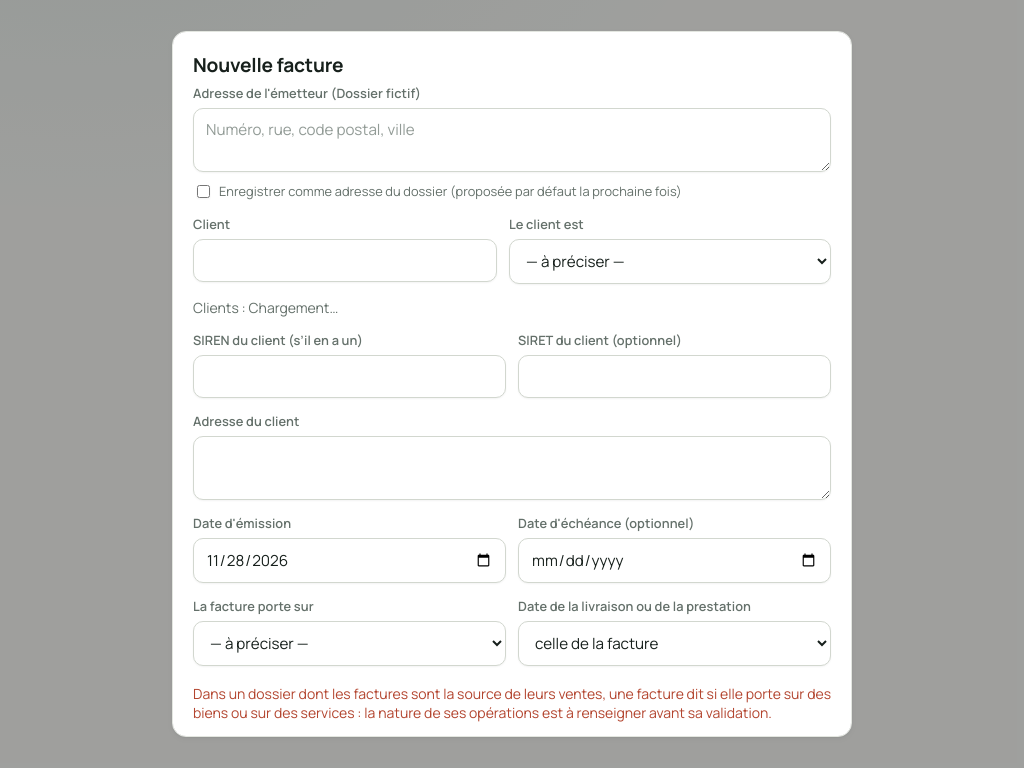
Scenario: FactureFormModal — un dossier basculé, au cabinet › la nature absente : le refus de la base, avant le clic ; la validation grisée, le brouillon offert
Type "Client fictif" into the field with id "tiers-nom".
click(345, 260); type("Client fictif")  # box [193, 239, 497, 282]
(page scrolled)
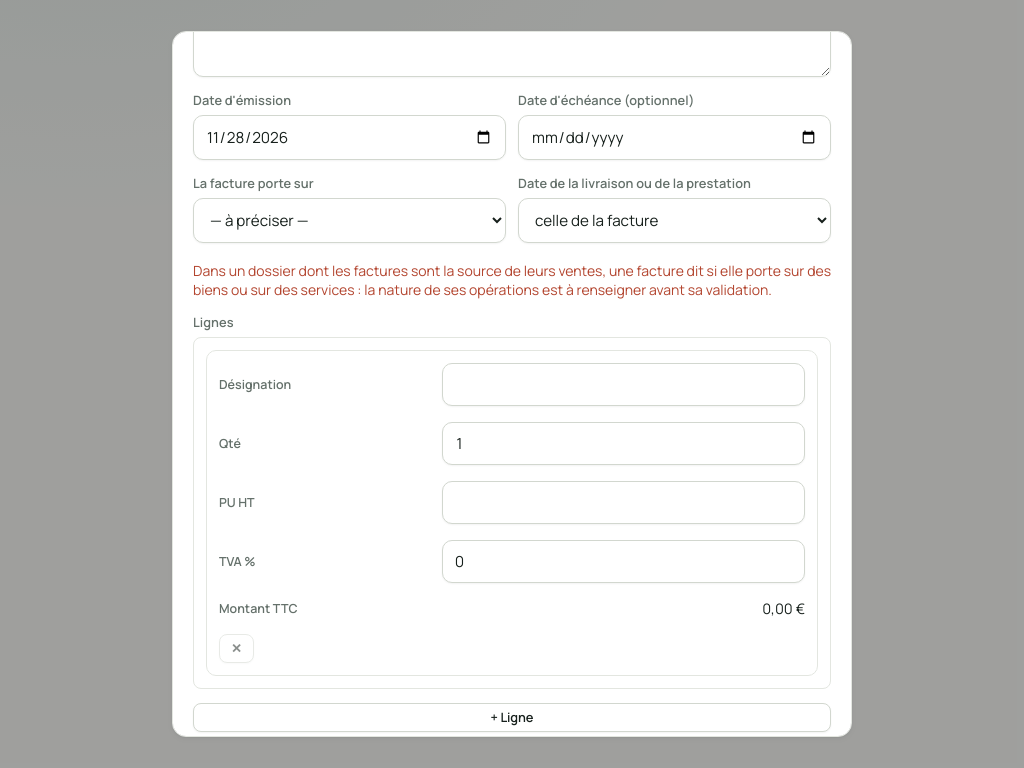
Type "Prestation" into the field.
click(623, 384); type("Prestation")  # box [442, 363, 805, 406]
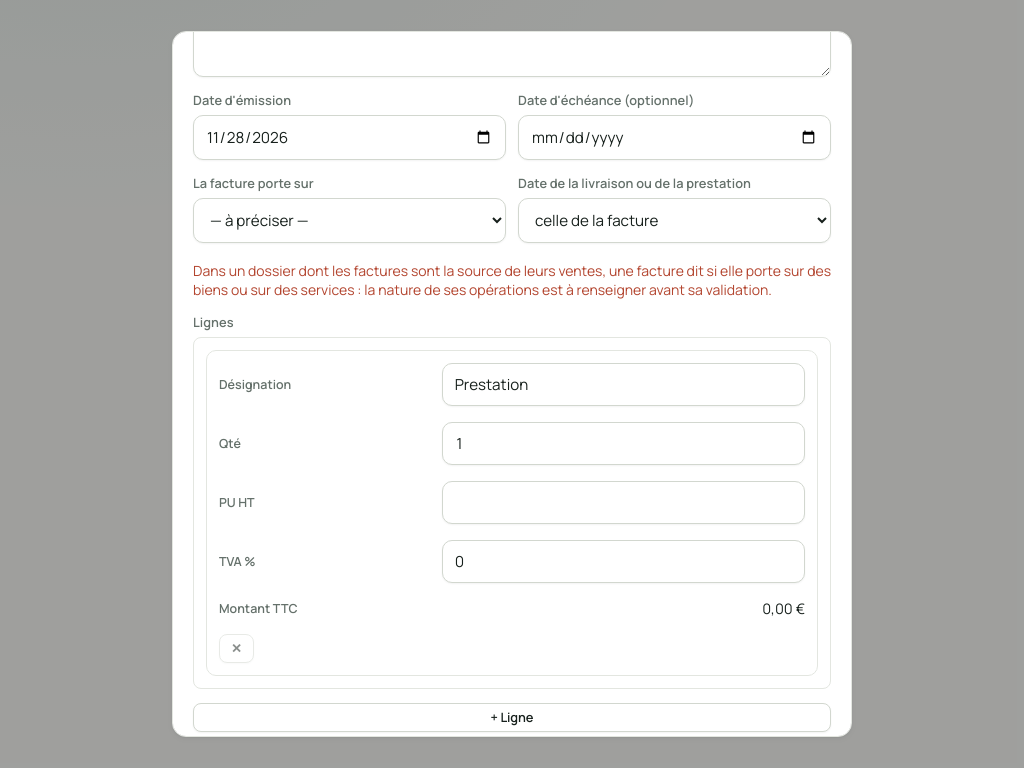
Select "— à préciser —" in the dropdown with id "nature-operation" at (350, 220), box [193, 198, 506, 243]
Type "2026-03-02" into the date field with id "date-emission".
click(350, 137); type("2026-03-02")  # box [193, 115, 506, 160]
(page scrolled)
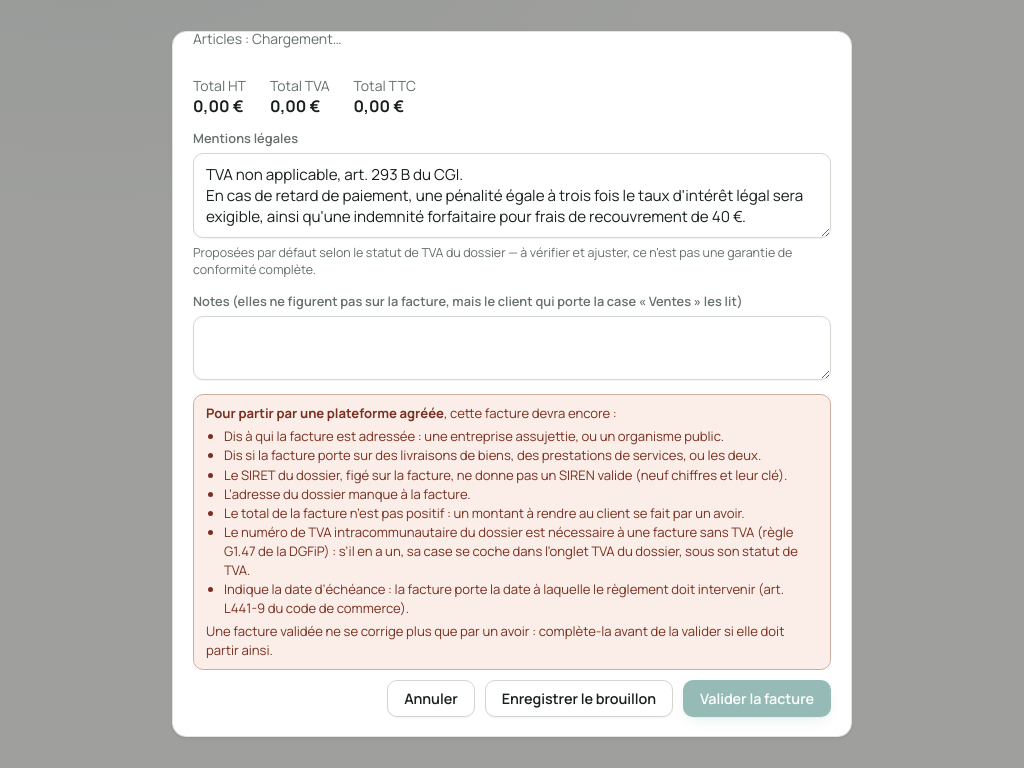
Now the button "Valider la facture" is disabled, box [683, 680, 831, 717]
Now the button "Enregistrer le brouillon" is enabled
Click the button "Enregistrer le brouillon".
click(579, 698)  # box [485, 680, 673, 717]
(page scrolled)
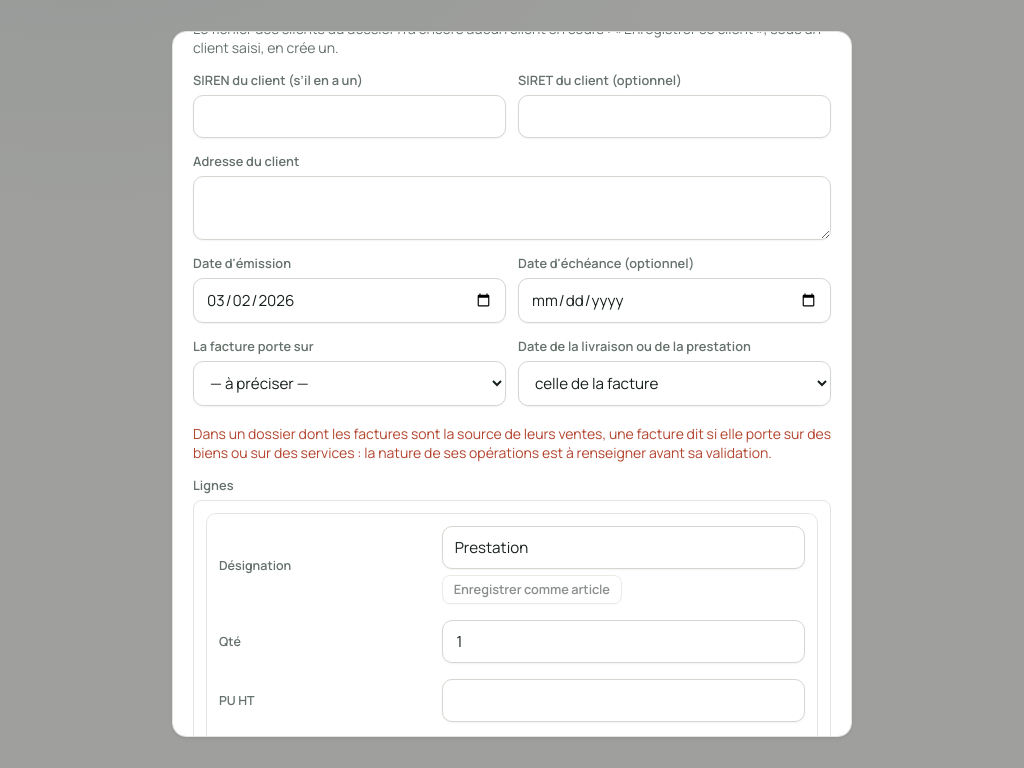
Select "des prestations de services" in the dropdown with id "nature-operation" at (350, 384), box [193, 361, 506, 406]
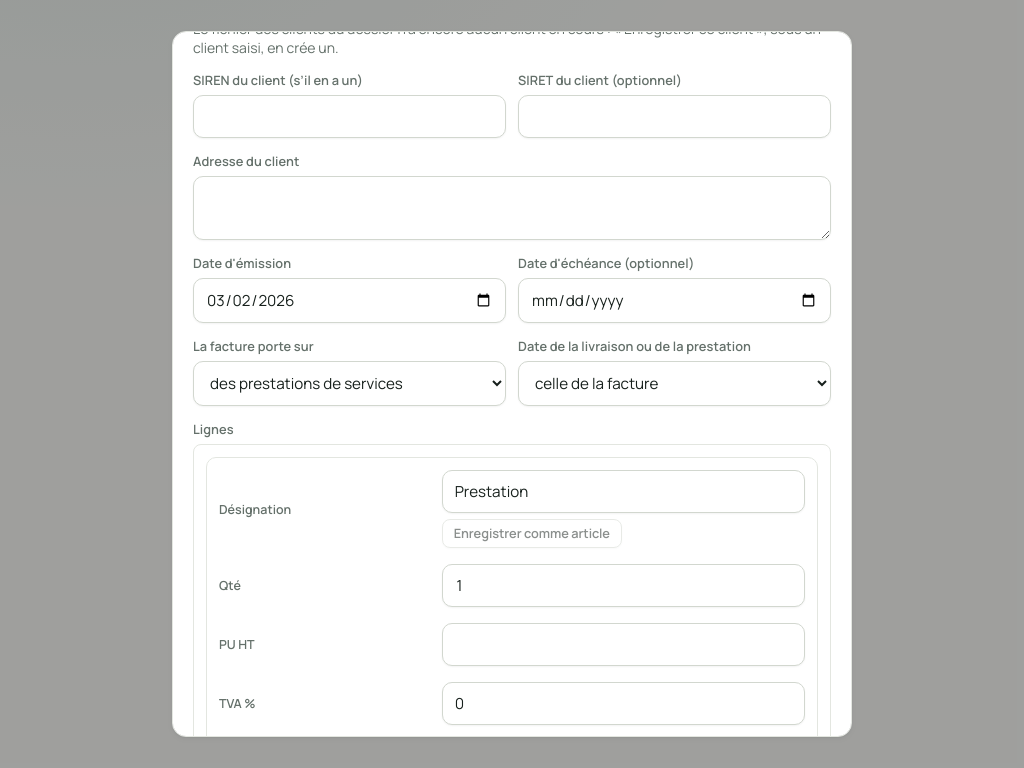
Now the text "Dans un dossier dont les factures sont la source de leurs ventes, une facture dit si elle porte sur des biens ou sur des" is gone
